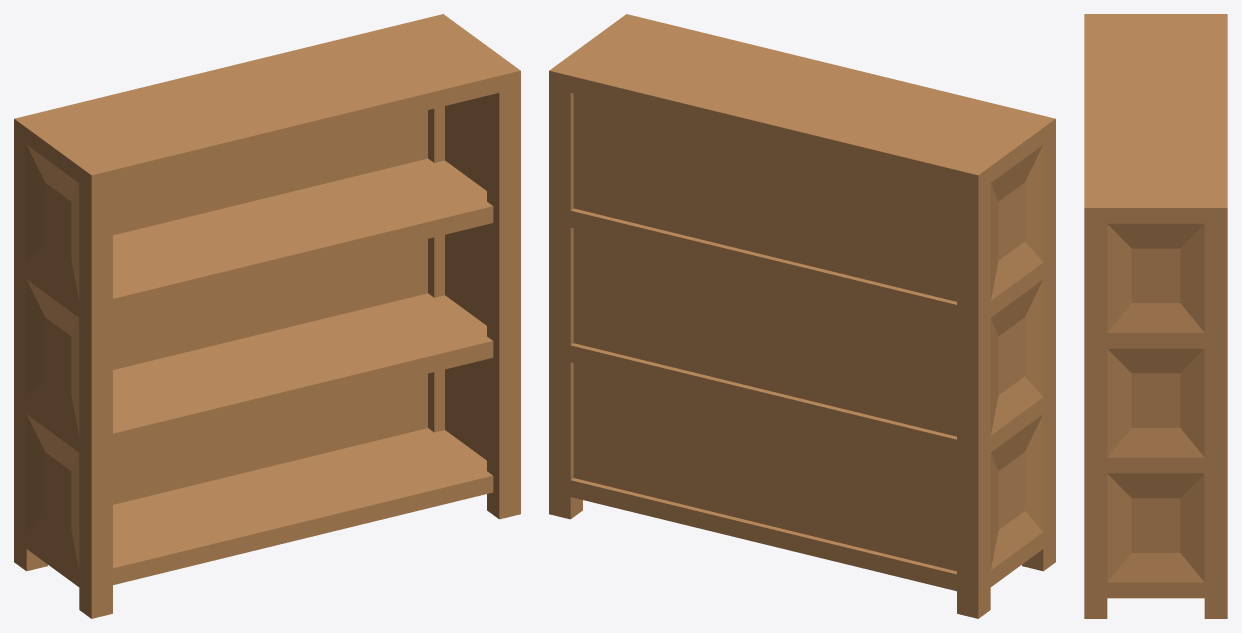
File: kitBookcaseClosedWide.glb
3 renders of one model, left to right at view 1: azimuth 30°, elevation 25°; view 2: azimuth 150°, elevation 25°; view 3: azimuth 270°, elevation 25°, orthographic. The views are drawn at different scales.
Parts seen in each view (by area): view 1: kitBookcaseClosedWide_wood; view 2: kitBookcaseClosedWide_wood; view 3: kitBookcaseClosedWide_wood.
Boxes of the visible parts, x1,y1,x2,y2 form: kitBookcaseClosedWide_wood: [14, 14, 520, 618]; kitBookcaseClosedWide_wood: [549, 14, 1055, 618]; kitBookcaseClosedWide_wood: [1084, 14, 1227, 618].
Size of the model in its own units: 1.6 by 1.58 by 0.5.
